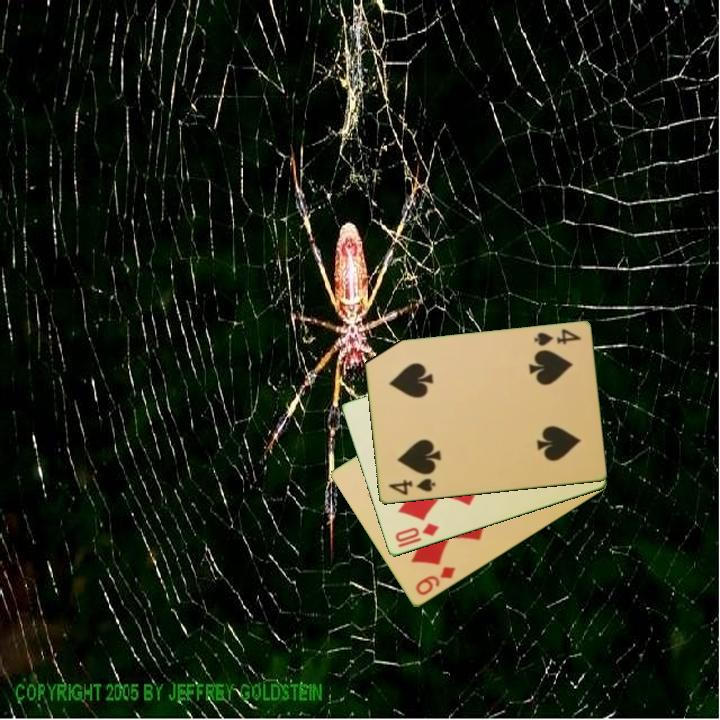10d: (391, 520, 441, 546)
4s: (530, 325, 584, 349), (385, 475, 438, 498)
9d: (412, 563, 458, 599)
